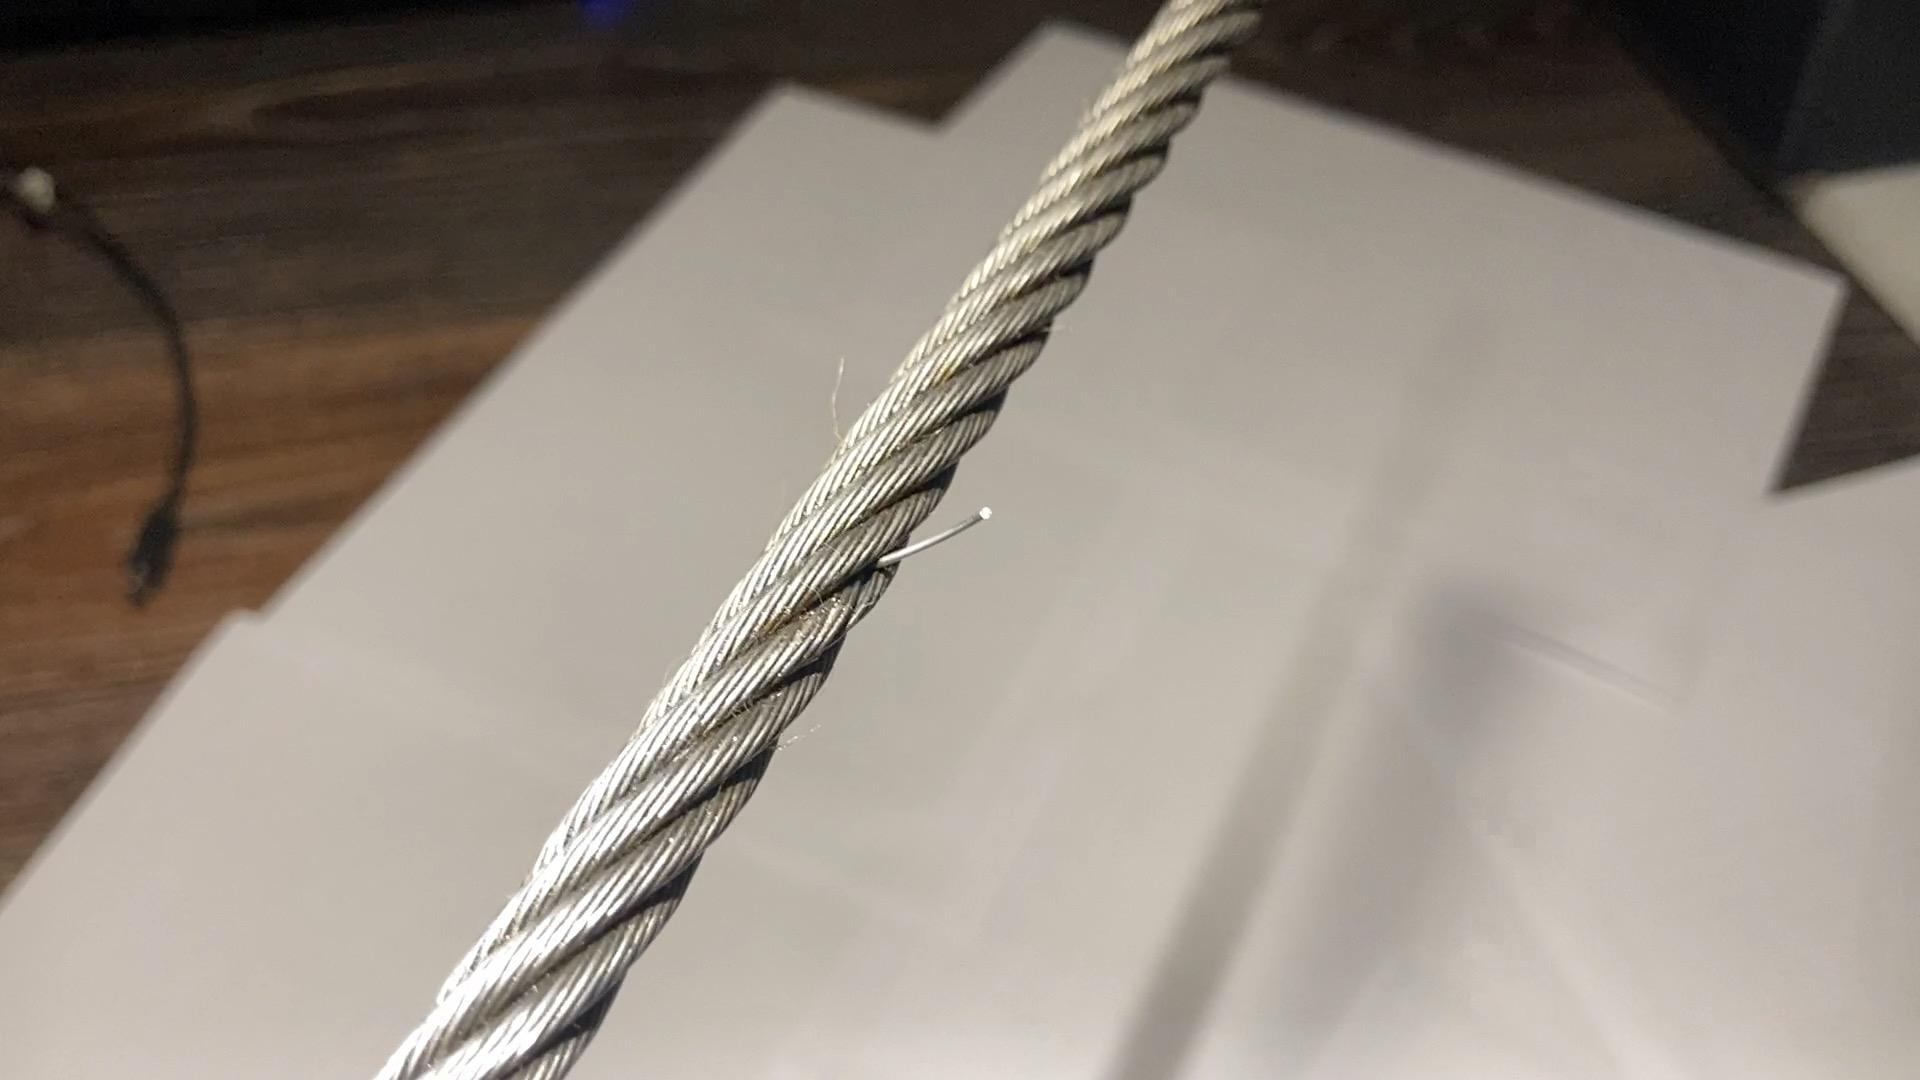break: (861, 493, 1007, 589)
